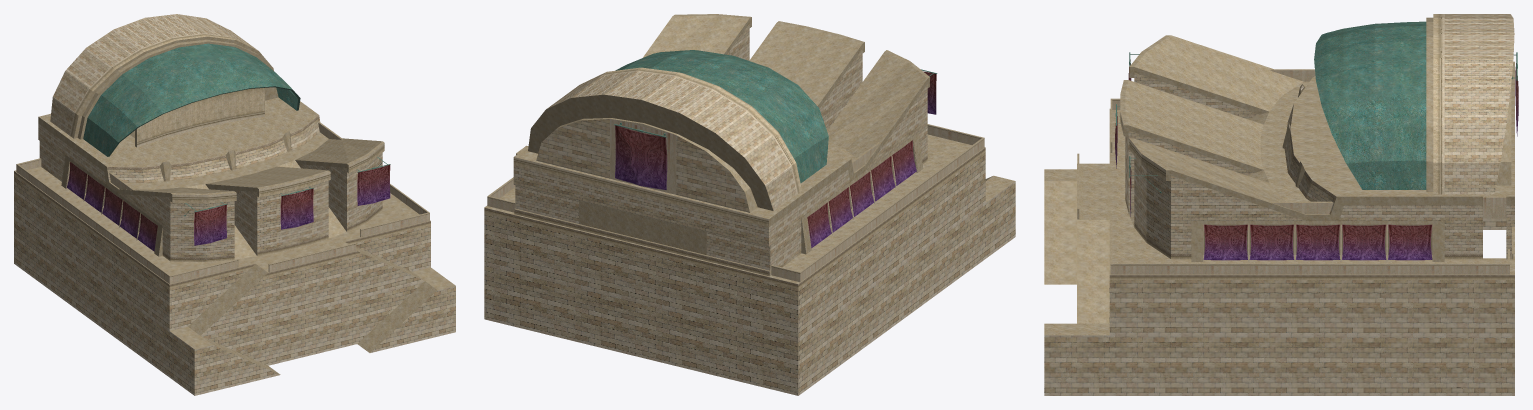
File: ply_nboo_theater_s01_r0_exterior_mesh_l0.fbx
The picture shows the model from 3 angles, left to right: view 1: azimuth 30°, elevation 25°; view 2: azimuth 150°, elevation 25°; view 3: azimuth 270°, elevation 25°; orthographic projection. The views are drawn at different scales.
Parts seen in each view (by area): view 1: mesh_node; view 2: mesh_node; view 3: mesh_node.
Boxes of the visible parts, x1=… form: mesh_node: x1=14, y1=14, x2=455, y2=395; mesh_node: x1=484, y1=14, x2=1015, y2=395; mesh_node: x1=1044, y1=14, x2=1518, y2=395.
Bounding box in the file's own units: 25.6 × 20.05 × 30.91.
